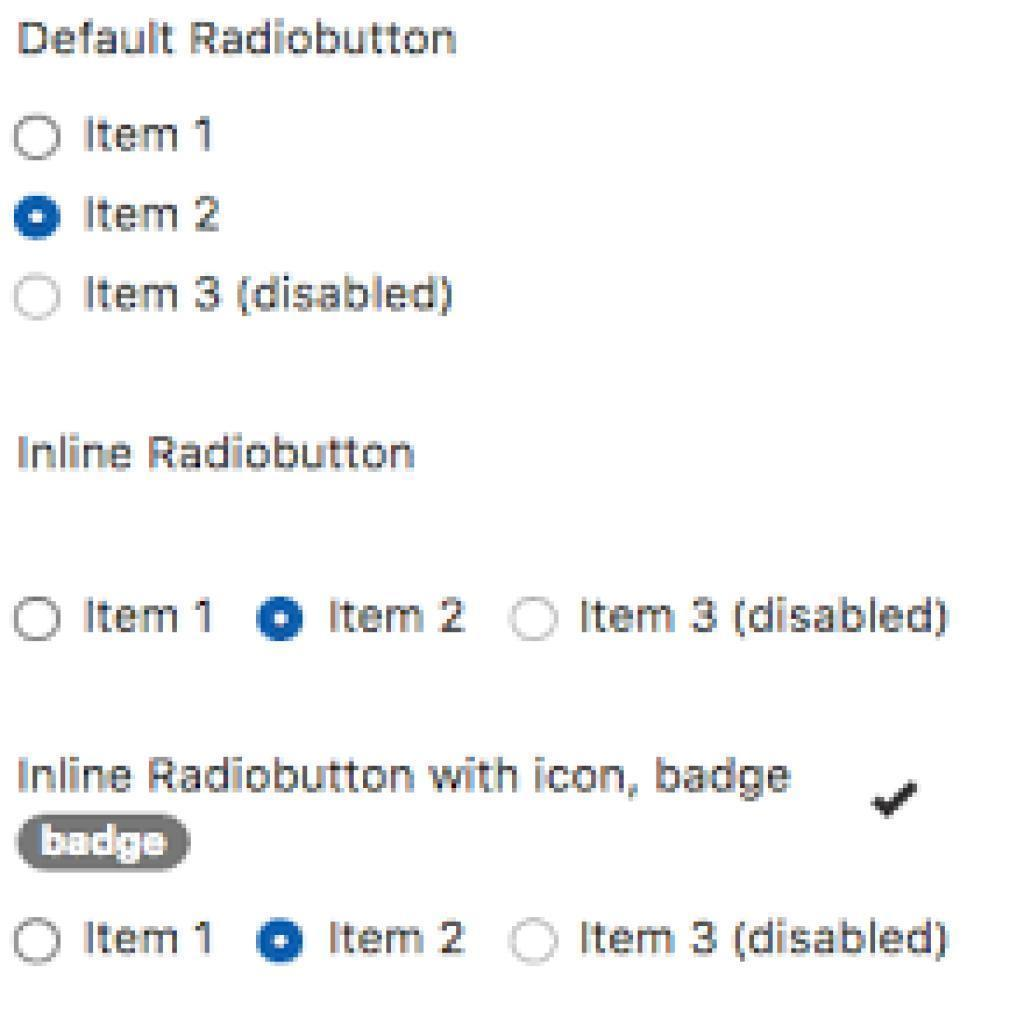button: (16, 814, 193, 873)
label: (14, 750, 797, 801), (571, 913, 956, 967), (11, 429, 421, 479), (13, 17, 459, 62), (79, 269, 456, 322), (574, 596, 951, 640), (323, 589, 469, 639), (326, 911, 469, 959), (80, 190, 220, 239), (80, 589, 219, 638), (81, 913, 217, 962), (83, 111, 214, 159)
radio: (10, 108, 65, 170), (12, 186, 63, 248), (251, 593, 309, 644), (9, 914, 64, 967), (503, 597, 564, 644), (252, 917, 308, 968), (506, 916, 562, 967), (14, 272, 60, 322), (12, 596, 62, 642)
